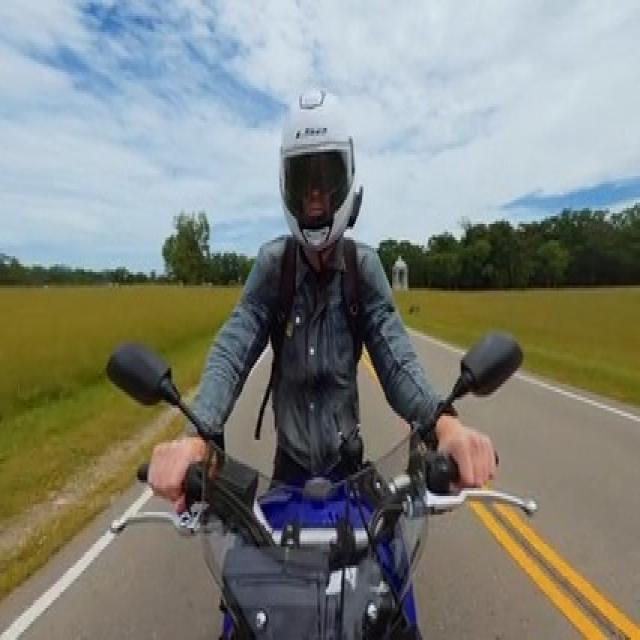Helmet_Wearer: (270, 72, 360, 272)
Person: (174, 74, 491, 488)
